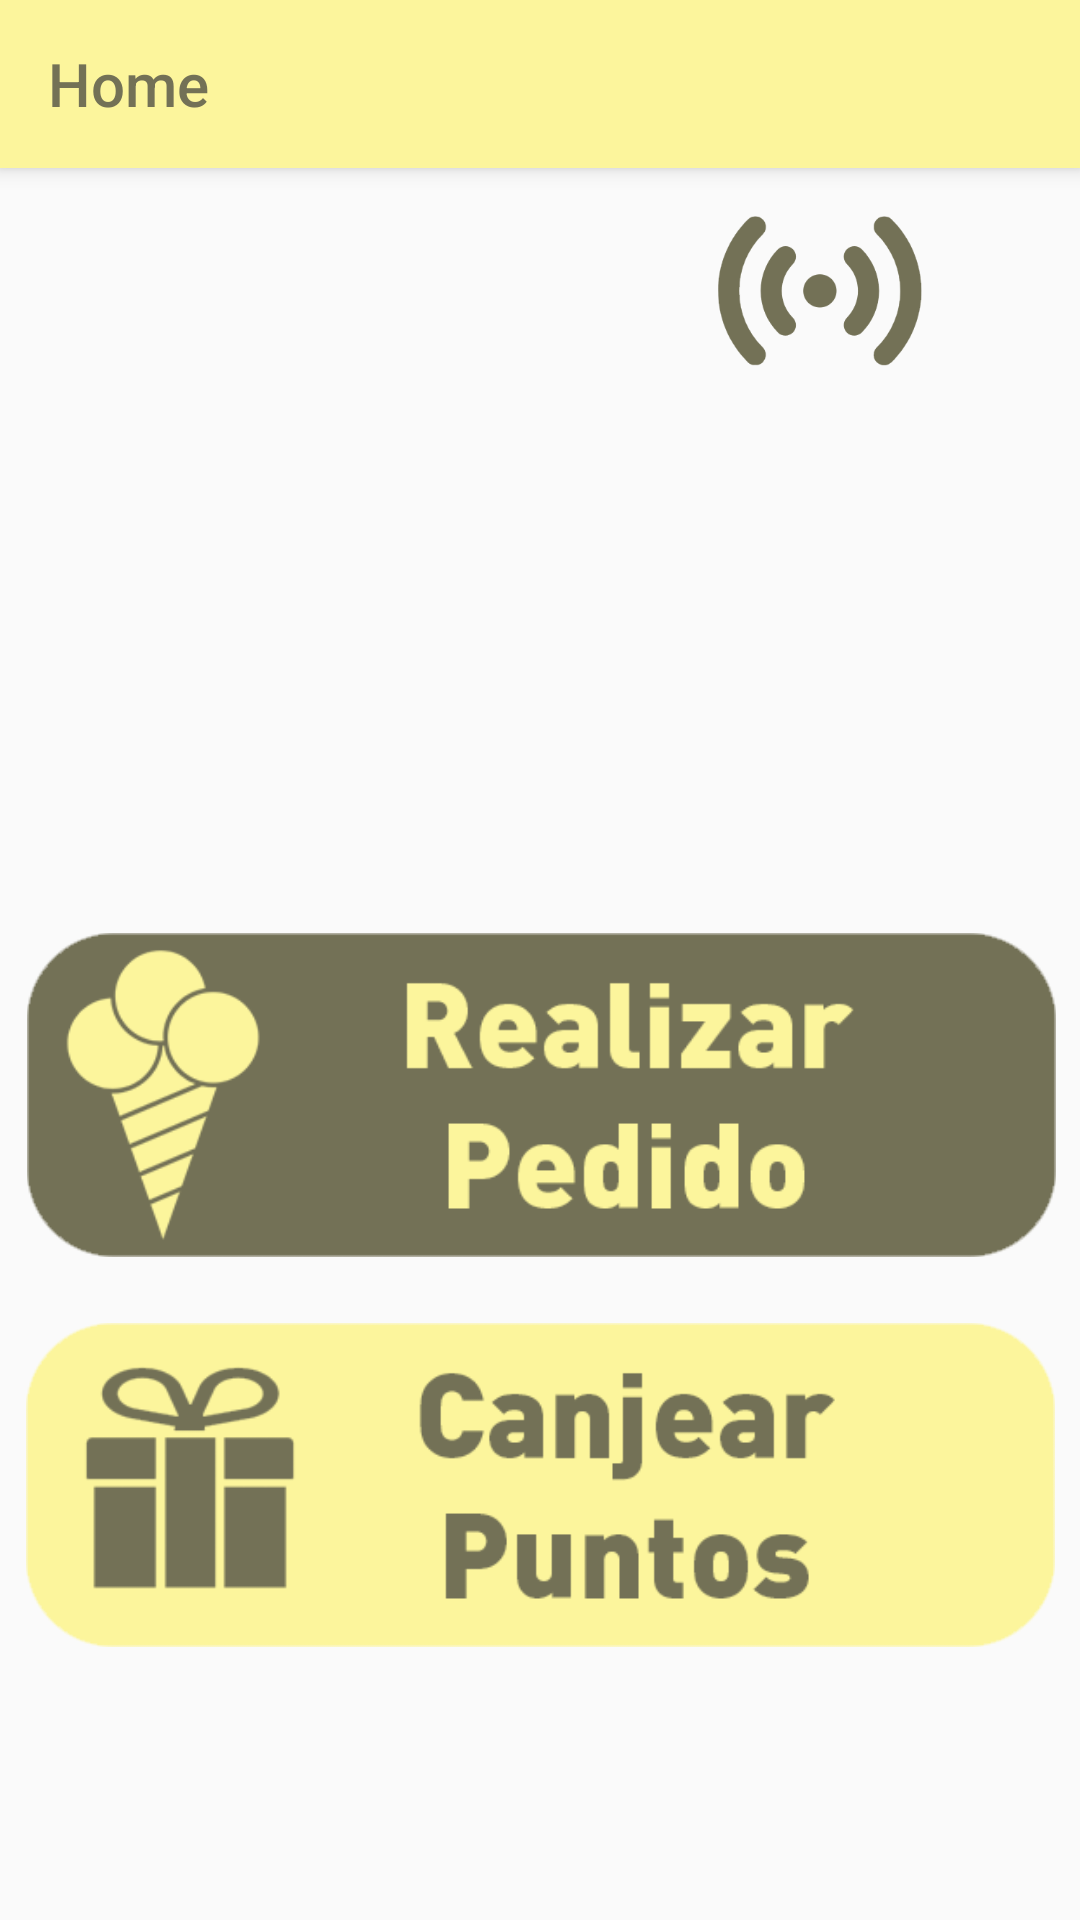

Named icons in this screenshot (1080w x 1920h) and their bounding boxes, Rect(x1, y1, x2, y2):
sensor: Rect(718, 216, 922, 366)
